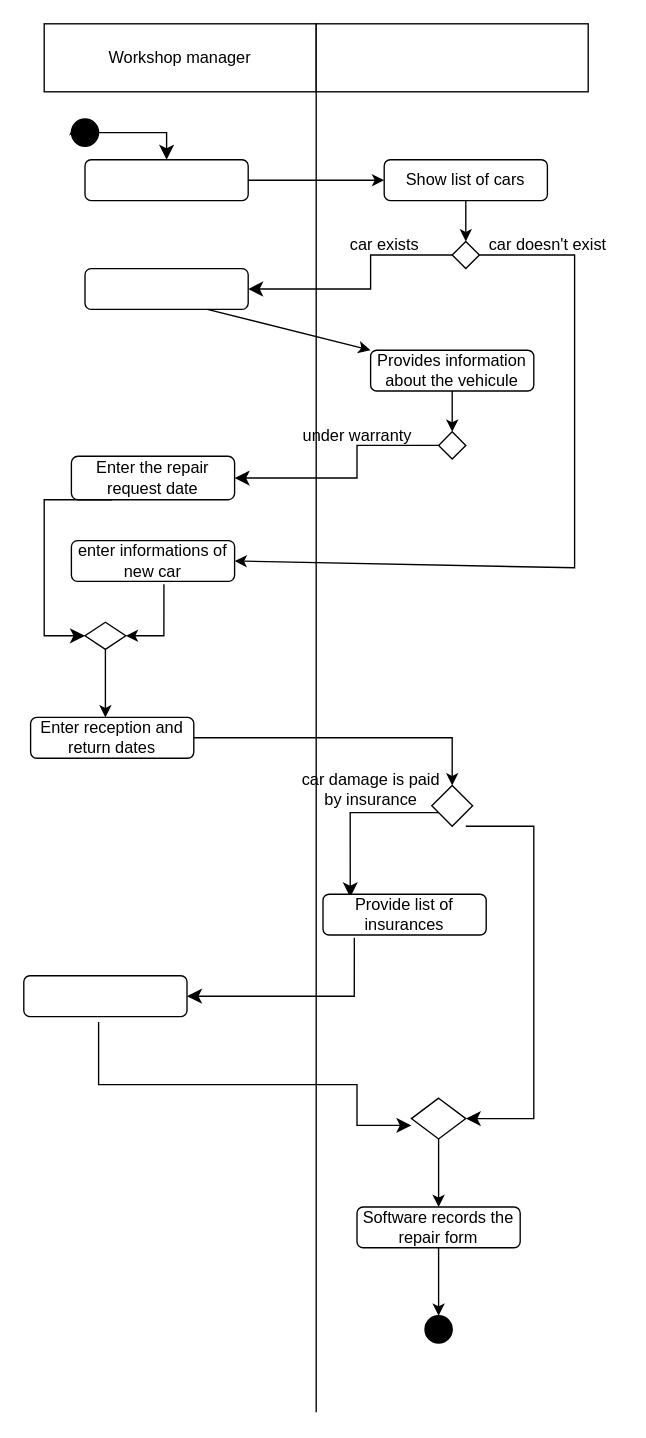
This 646x1438 diagram has some shape labels left out. Here are the shapes that lost their labels. From the top down, the box of each, then its label:
(315, 22, 588, 92): Repair management software
(84, 158, 248, 201): Enter car search critera
(84, 267, 248, 309): Select the car
(22, 974, 187, 1017): Selects appropriate insurance
